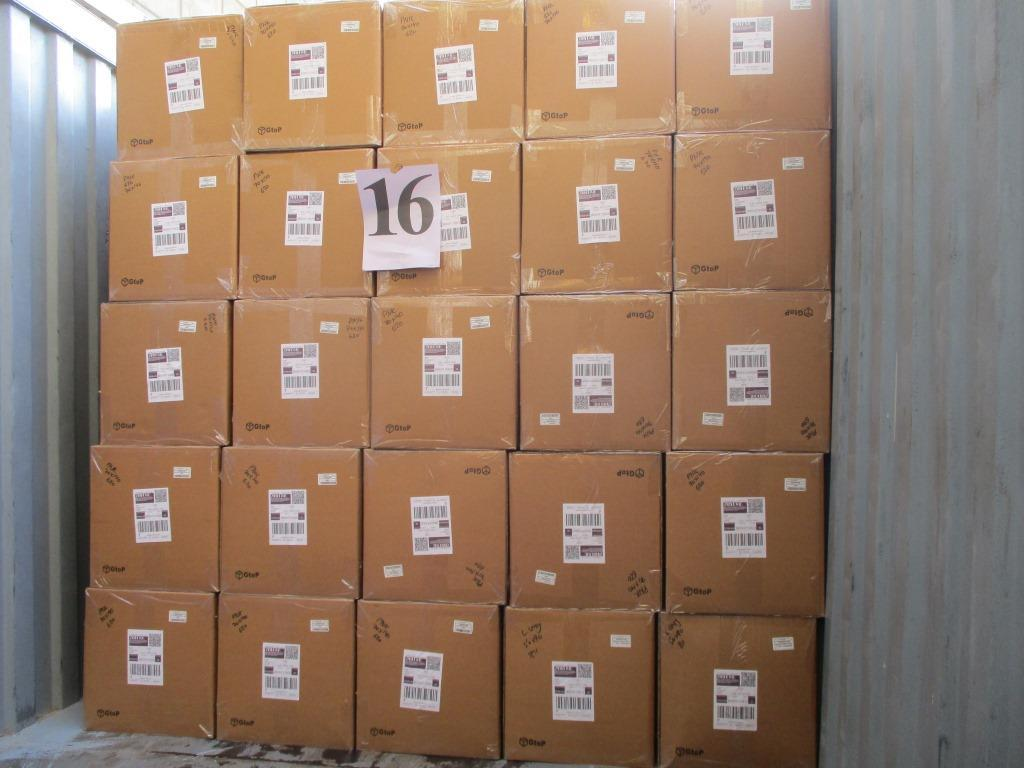carton: (665, 451, 825, 615), (671, 289, 832, 451), (672, 129, 831, 289), (508, 451, 664, 610), (657, 614, 817, 768), (502, 607, 656, 765), (520, 135, 672, 294), (518, 292, 670, 449), (368, 292, 518, 447), (355, 598, 501, 757), (372, 142, 521, 296), (362, 449, 507, 603), (216, 592, 356, 749), (219, 445, 362, 597), (231, 295, 370, 446), (524, 0, 677, 137), (242, 1, 382, 150), (381, 0, 524, 144), (237, 149, 375, 298), (675, 0, 830, 130), (83, 588, 216, 737), (99, 298, 232, 443), (108, 153, 240, 299), (89, 445, 221, 590), (117, 14, 245, 158)
